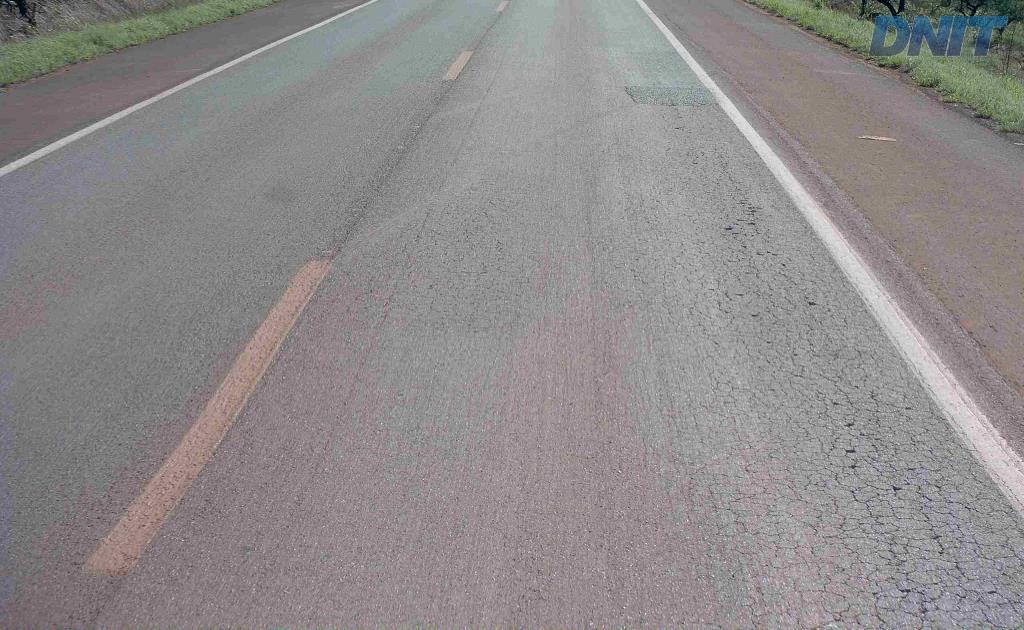crack: (877, 498, 1023, 596)
